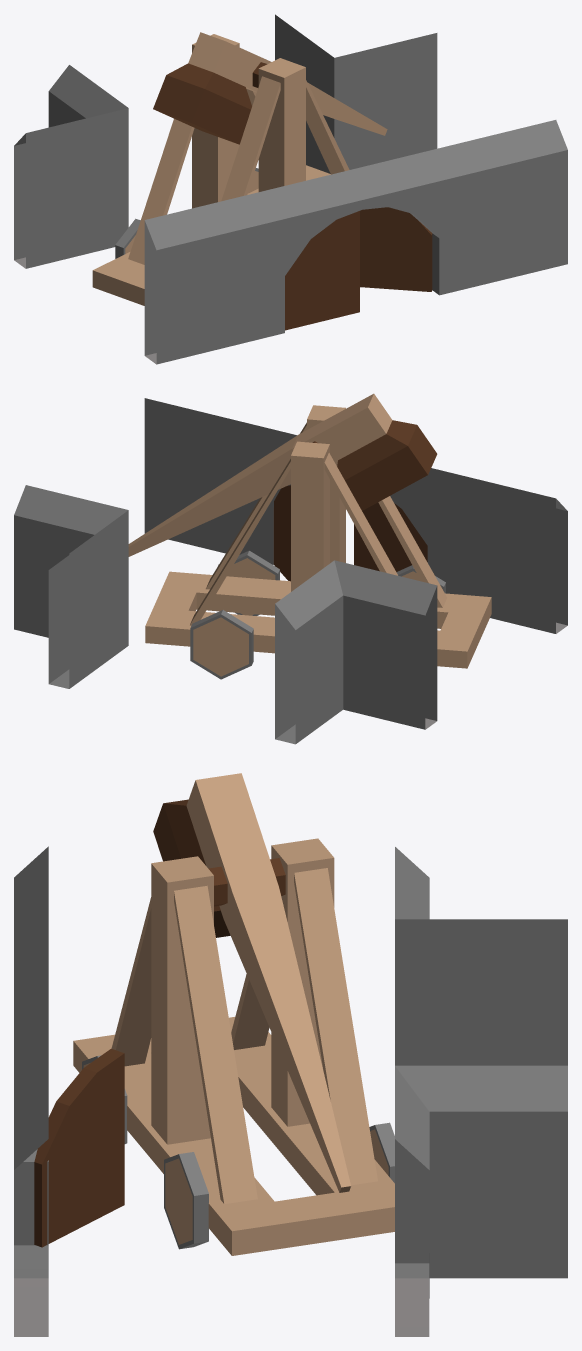
Rendered from Armoury Center.fbx.
3 views of the same model, one above another, from view 1: azimuth 30°, elevation 25°; view 2: azimuth 150°, elevation 25°; view 3: azimuth 270°, elevation 25° (orthographic). The views are drawn at different scales.
Visible parts, largest first — view 1: Amory Center; view 2: Amory Center; view 3: Amory Center.
Boxes of the visible parts, x1=… form: Amory Center: x1=14, y1=14, x2=567, y2=364; Amory Center: x1=14, y1=393, x2=567, y2=744; Amory Center: x1=14, y1=773, x2=567, y2=1336.
Size of the model in its own units: 1 by 0.6001 by 0.8.
